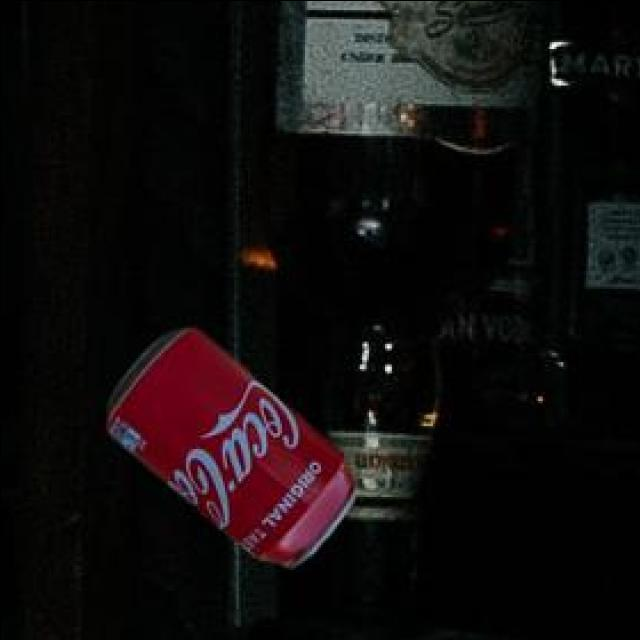logam: (104, 326, 351, 563)
